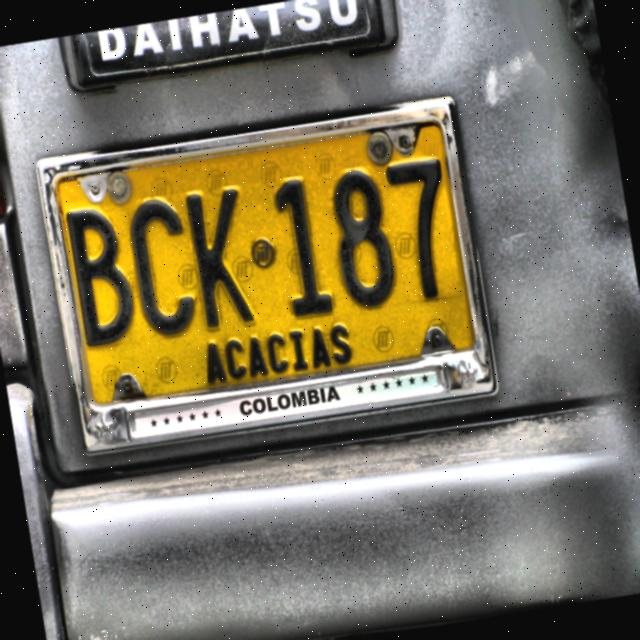1: (264, 166, 342, 324)
7: (384, 156, 464, 304)
8: (322, 162, 403, 316)
B: (64, 200, 142, 355)
C: (121, 193, 202, 344)
K: (182, 180, 262, 336)
